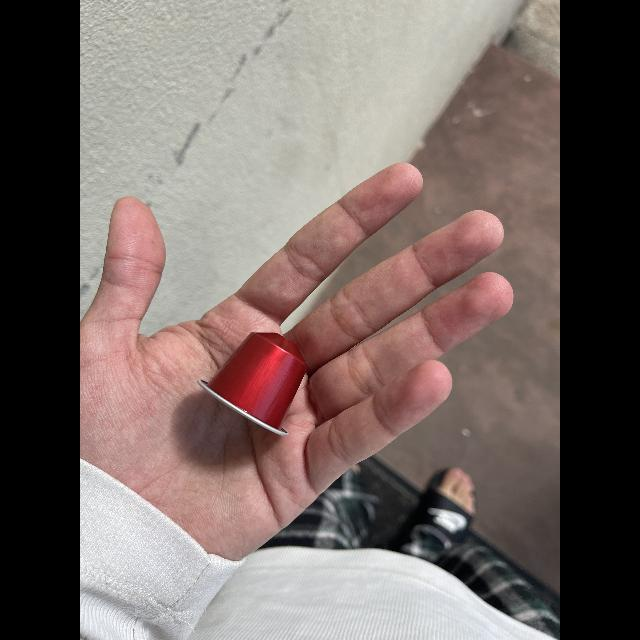intact_capsule: (196, 321, 316, 443)
